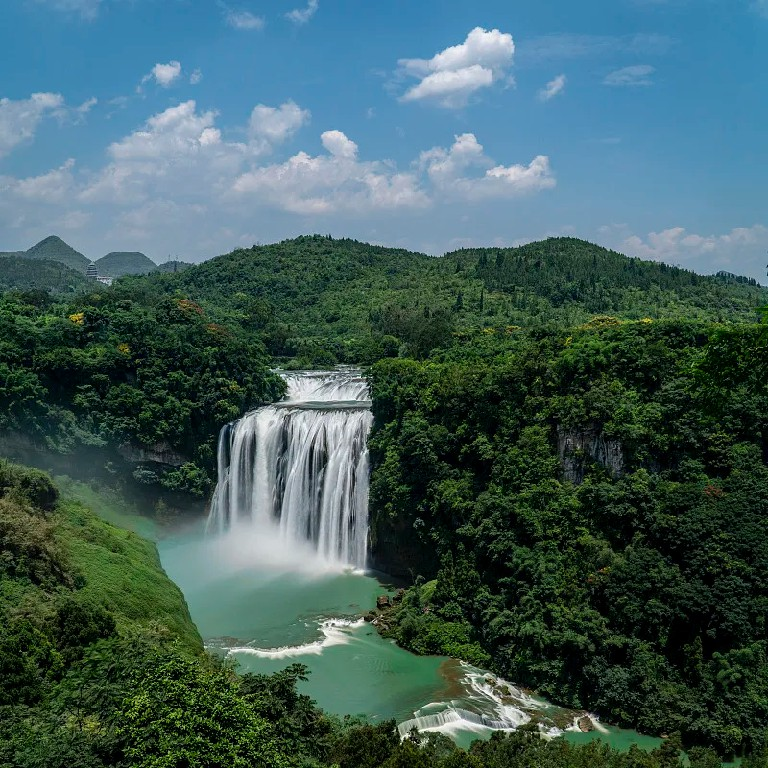Huangguoshu: (210, 372, 369, 572)
